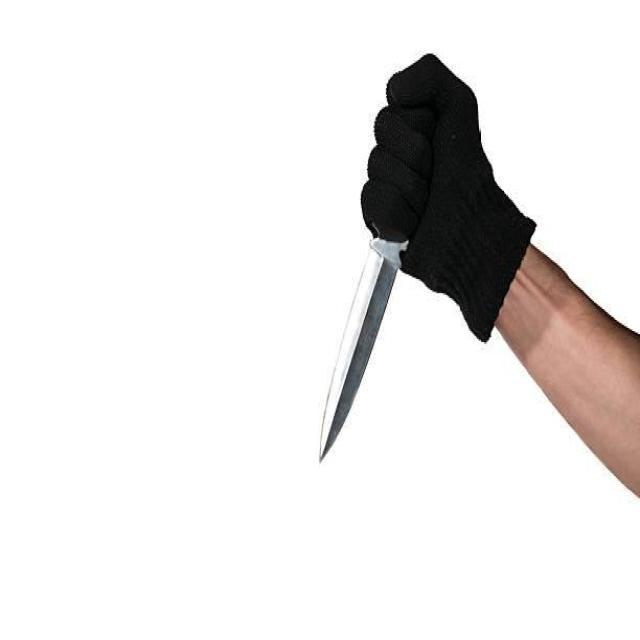faca: (301, 22, 483, 503)
